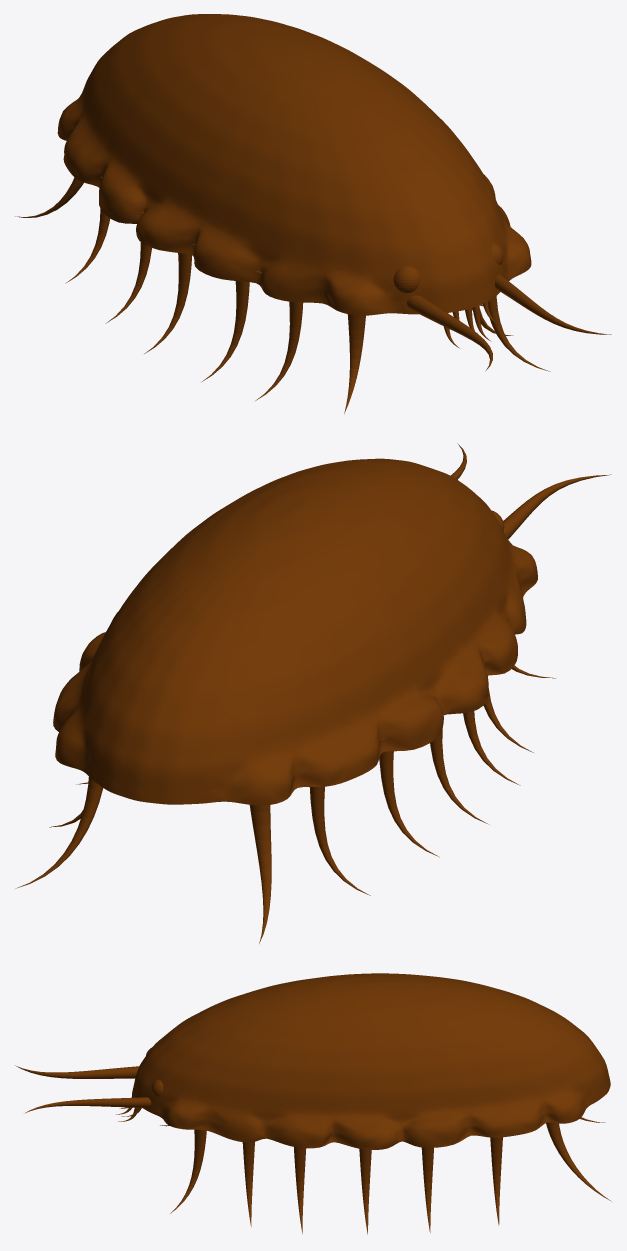
The model's file is bigbugboi.fbx.
3 views of the same model, one above another, from view 1: azimuth 30°, elevation 25°; view 2: azimuth 150°, elevation 25°; view 3: azimuth 270°, elevation 25° (orthographic). The views are drawn at different scales.
Parts seen in each view (by area): view 1: rolypolymodoli:Mesh; view 2: rolypolymodoli:Mesh; view 3: rolypolymodoli:Mesh.
Boxes of the visible parts, x1,y1,x2,y2 form: rolypolymodoli:Mesh: [15, 14, 611, 414]; rolypolymodoli:Mesh: [15, 443, 611, 943]; rolypolymodoli:Mesh: [15, 973, 611, 1234].
Bounding box in the file's own units: 18.36 × 13.78 × 38.84.
